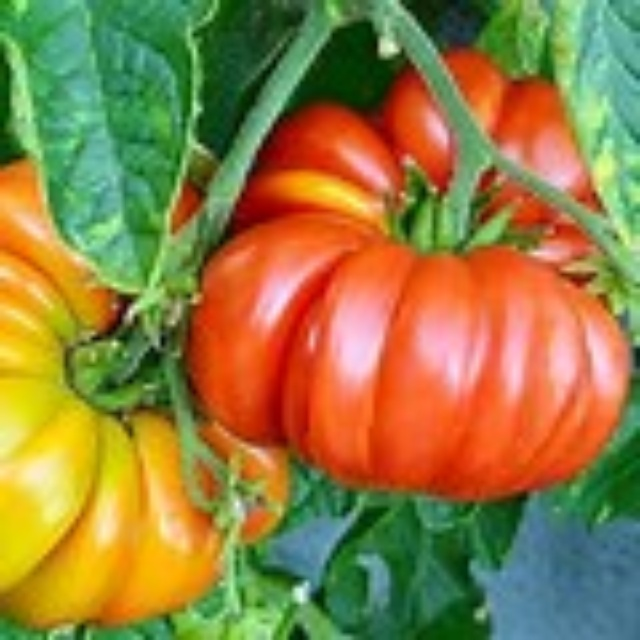tomato: (186, 60, 615, 496), (15, 150, 300, 616)
